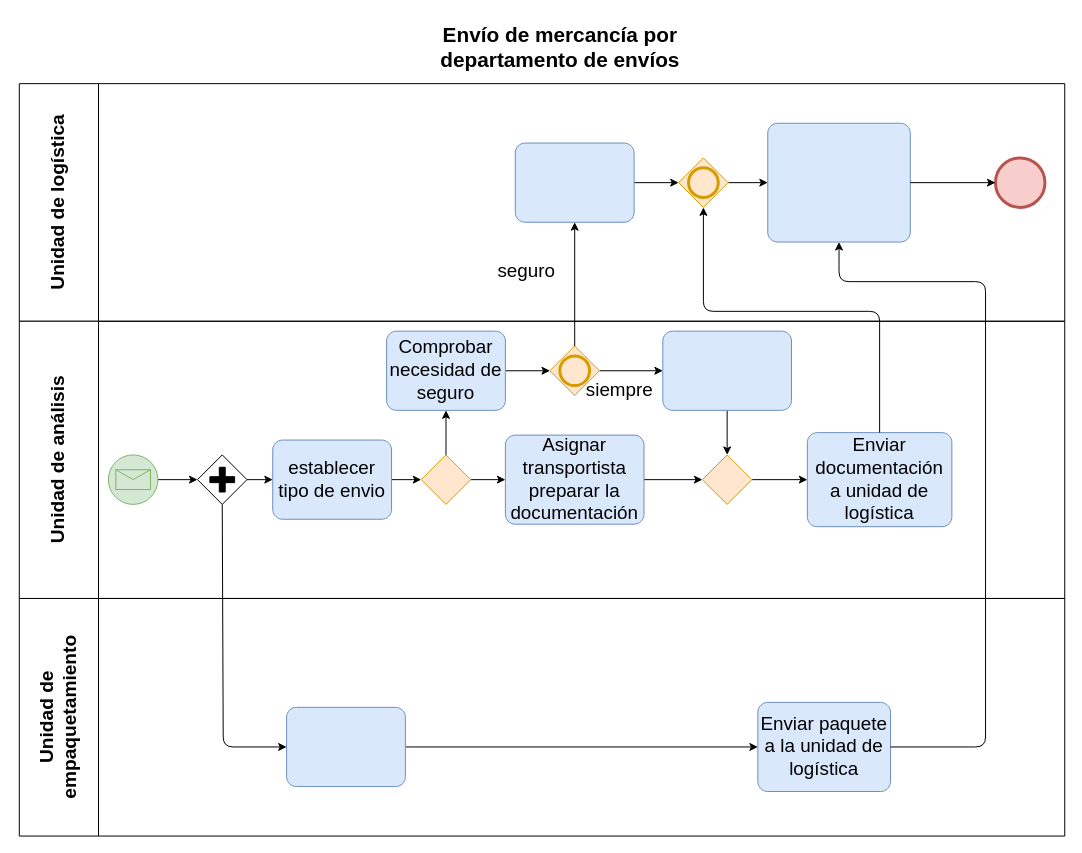
Some shapes in this 1082 by 853 pixel diagram are drawn without their labels. Here are the shapes that lost their labels. From the top down, the centre of each, then its label:
the point at 574,182: Asignar tipo de seguro
the point at 838,182: Recibir paquete, anexar documentación y ejecutar envio
the point at 727,370: Preparar documentación envio normal
the point at 345,746: Empaquetar pedido
